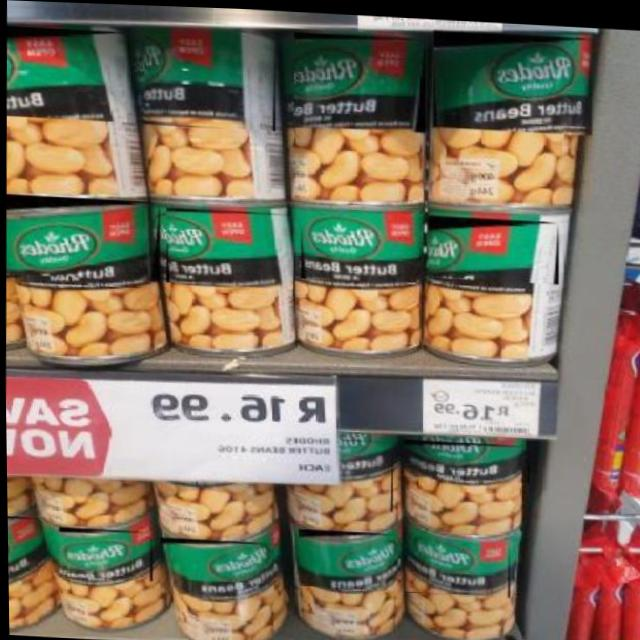Beans: (428, 25, 592, 132), (288, 27, 426, 130), (140, 25, 276, 129), (3, 193, 158, 281), (4, 25, 127, 120), (161, 206, 292, 287), (424, 210, 558, 280), (296, 206, 416, 282), (155, 535, 273, 598), (399, 531, 507, 595), (293, 525, 391, 588), (398, 435, 528, 479), (53, 526, 150, 581), (337, 435, 391, 509), (6, 515, 35, 627)
